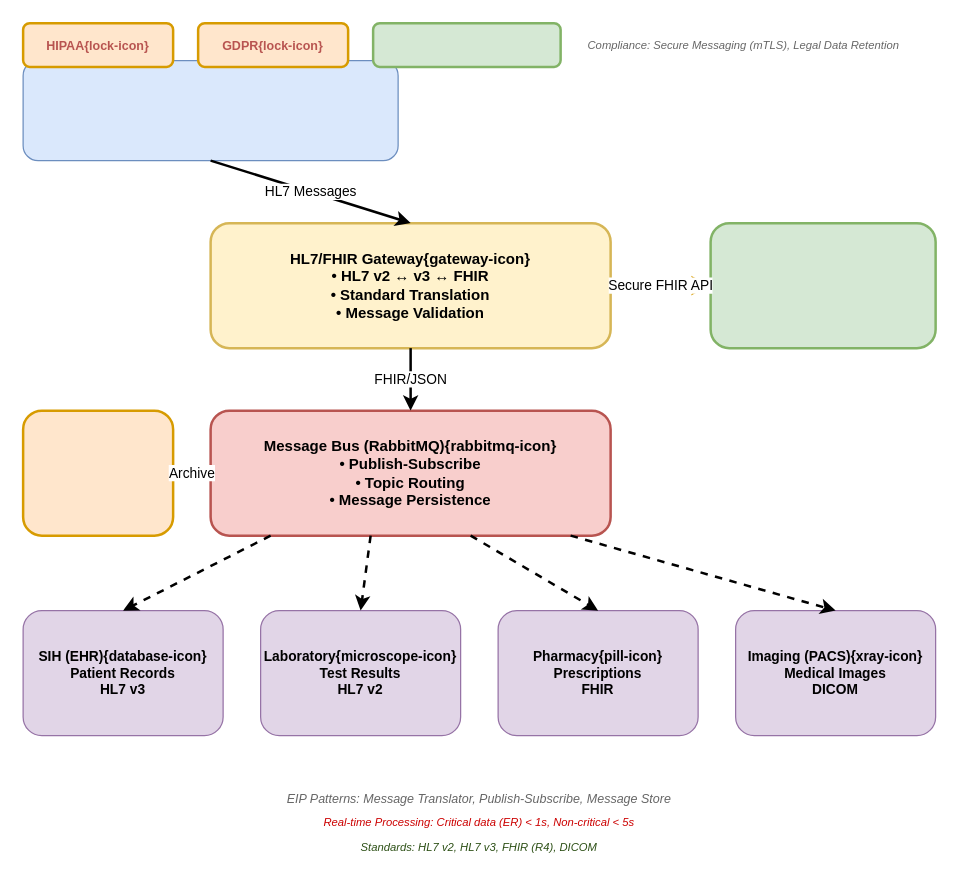
This 958x881 diagram has some shape labels left out. Here are the shapes that lost their labels. From the top down, the centre of each, then its label:
(x=466, y=44): HL7/FHIR/DICOM
(x=210, y=110): Hospital Applications{hospital-icon} • EMR Systems • Clinical Workstations
(x=822, y=285): Insurance Company{insurance-icon} External Partner FHIR REST API
(x=97, y=472): Message Store{storage-icon} • Audit Trail • Legal Compliance • Data Retention
